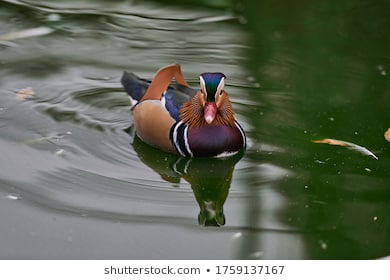duck: (106, 61, 267, 173)
